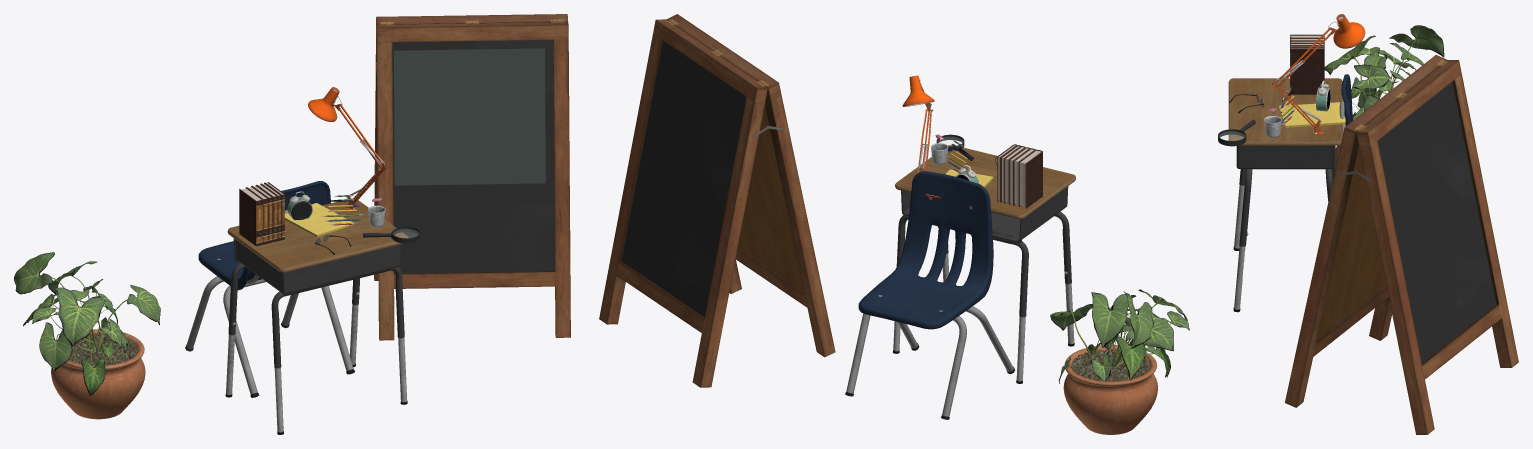
3 renders of one model, left to right at view 1: azimuth 30°, elevation 25°; view 2: azimuth 150°, elevation 25°; view 3: azimuth 270°, elevation 25°, orthographic.
Visible parts, largest first — view 1: standing_chalkboard_01, ecran_tableau, SchoolDesk_01, potted_plant_02_leaves, SchoolChair_01, potted_plant_02_pot, desk_lamp_arm_01, potted_plant_02_dirt, book_encyclopedia_set_01_book01, office_notepads_yellow_pad, magnifying_glass_01, alarm_clock_01; view 2: standing_chalkboard_01, SchoolChair_01, SchoolDesk_01, potted_plant_02_leaves, potted_plant_02_pot, potted_plant_02_dirt, book_encyclopedia_set_01_book01, desk_lamp_arm_01; view 3: standing_chalkboard_01, SchoolDesk_01, potted_plant_02_leaves, desk_lamp_arm_01, book_encyclopedia_set_01_book06, office_notepads_yellow_pad, SchoolChair_01, magnifying_glass_01, alarm_clock_01, stationery_supplies_pencilcup.
Boxes of the visible parts, bbox=[...] form: standing_chalkboard_01: bbox=[374, 14, 570, 340]; ecran_tableau: bbox=[394, 48, 545, 185]; SchoolDesk_01: bbox=[225, 198, 408, 434]; potted_plant_02_leaves: bbox=[14, 252, 160, 395]; SchoolChair_01: bbox=[185, 181, 354, 397]; potted_plant_02_pot: bbox=[51, 329, 145, 419]; desk_lamp_arm_01: bbox=[308, 87, 387, 211]; potted_plant_02_dirt: bbox=[68, 332, 138, 365]; book_encyclopedia_set_01_book01: bbox=[239, 187, 262, 246]; office_notepads_yellow_pad: bbox=[285, 203, 353, 236]; magnifying_glass_01: bbox=[363, 227, 419, 243]; alarm_clock_01: bbox=[287, 191, 312, 220]; standing_chalkboard_01: bbox=[599, 14, 835, 387]; SchoolChair_01: bbox=[845, 171, 1014, 419]; SchoolDesk_01: bbox=[893, 145, 1075, 383]; potted_plant_02_leaves: bbox=[1050, 289, 1189, 383]; potted_plant_02_pot: bbox=[1063, 345, 1157, 434]; potted_plant_02_dirt: bbox=[1071, 348, 1150, 381]; book_encyclopedia_set_01_book01: bbox=[1019, 149, 1042, 208]; desk_lamp_arm_01: bbox=[902, 75, 934, 172]; standing_chalkboard_01: bbox=[1285, 55, 1518, 434]; SchoolDesk_01: bbox=[1228, 78, 1342, 312]; potted_plant_02_leaves: bbox=[1324, 25, 1444, 120]; desk_lamp_arm_01: bbox=[1272, 14, 1365, 134]; book_encyclopedia_set_01_book06: bbox=[1290, 47, 1324, 94]; office_notepads_yellow_pad: bbox=[1279, 102, 1345, 127]; SchoolChair_01: bbox=[1339, 74, 1352, 133]; magnifying_glass_01: bbox=[1218, 119, 1255, 146]; alarm_clock_01: bbox=[1316, 80, 1330, 111]; stationery_supplies_pencilcup: bbox=[1264, 116, 1281, 138].
Bounding box in the file's own units: 3.09 × 1.51 × 1.41.
Materials: 19 (17 with a texture image).
